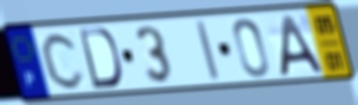0: (231, 16, 272, 80)
3: (134, 24, 174, 85)
A: (278, 12, 326, 78)
C: (39, 29, 87, 91)
D: (77, 26, 124, 91)
I: (194, 17, 222, 83)
